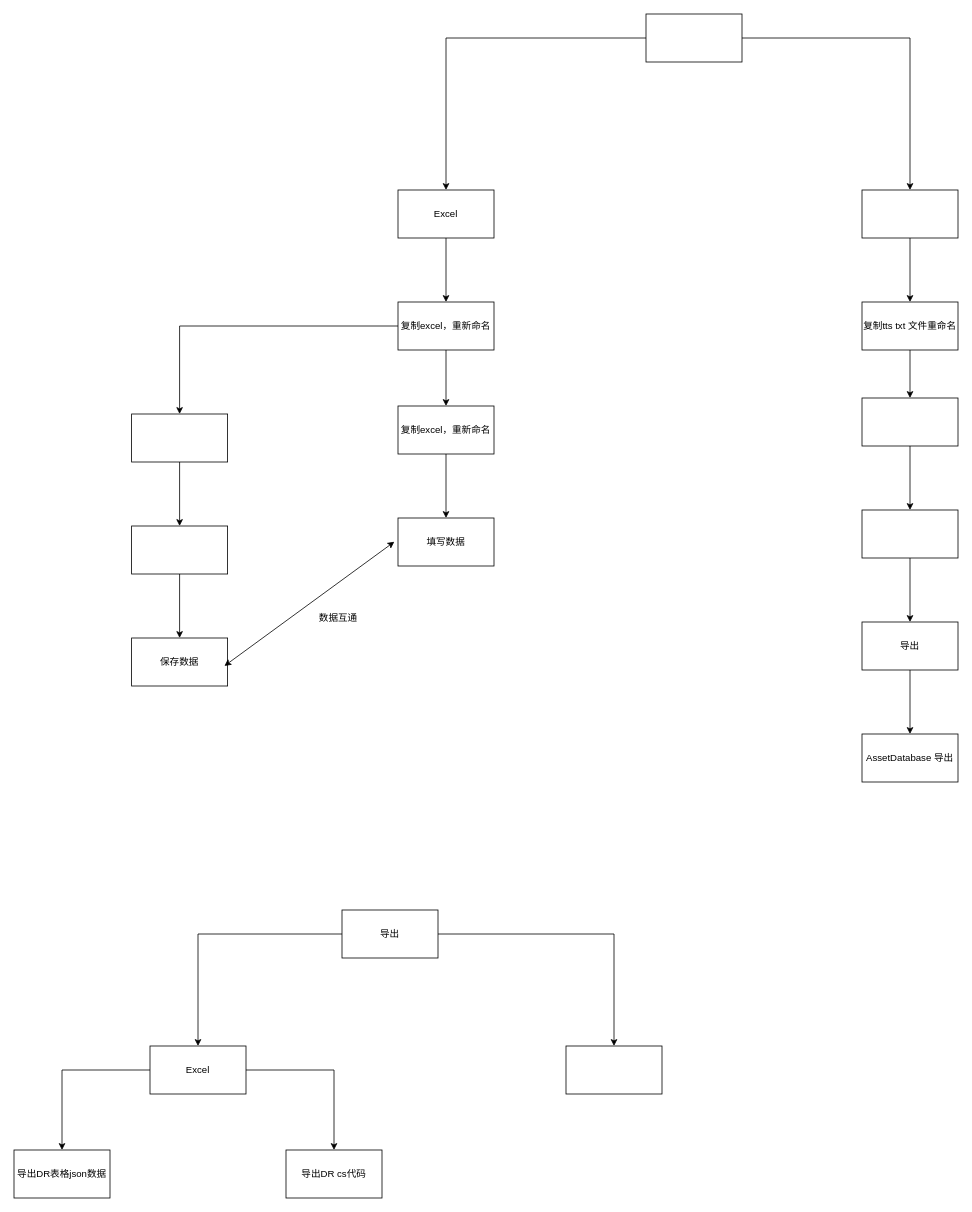
Image size: 972x1212. Some labels were removed from this diagram. Here are the shapes that lost their labels. From the top down, the centre of each, then its label:
At (x=693, y=37): "数据".
At (x=909, y=213): "音频数据".
At (x=179, y=437): "Task 表".
At (x=909, y=421): "TaskNode节点添加语音文字".
At (x=179, y=549): "创建节点".
At (x=909, y=533): "刷新".
